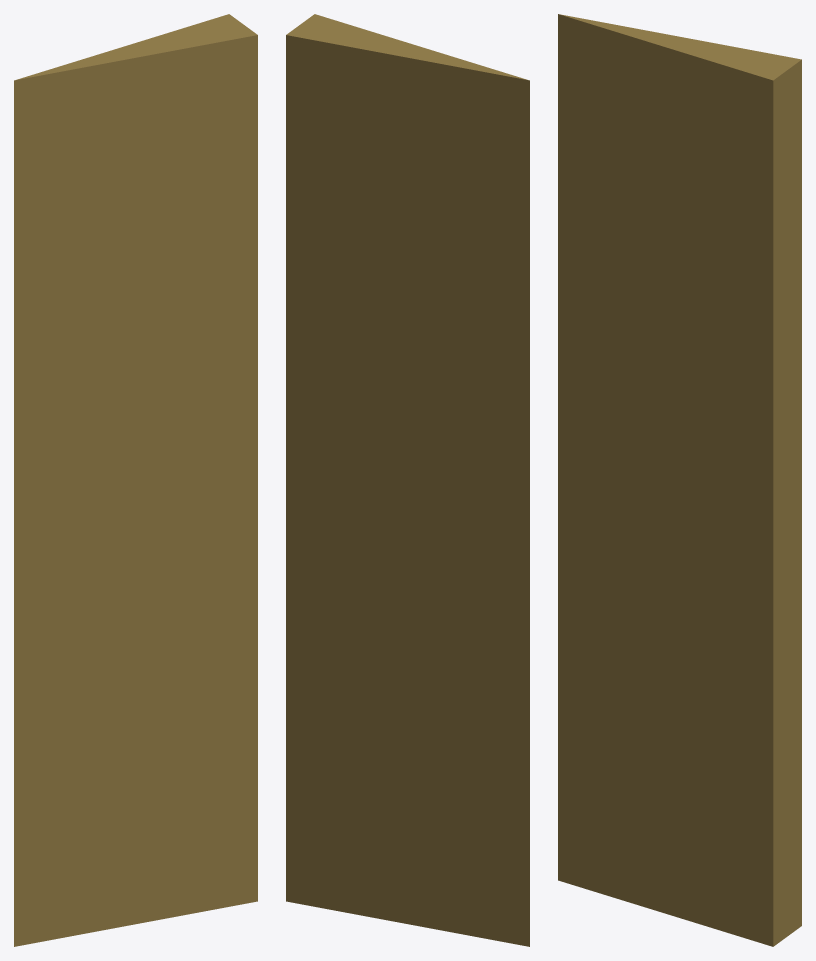
File: cratepart.fbx
3 renders of one model, left to right at view 1: azimuth 30°, elevation 25°; view 2: azimuth 150°, elevation 25°; view 3: azimuth 330°, elevation 25°, orthographic.
Visible parts, largest first — view 1: pCube4; view 2: pCube4; view 3: pCube4.
Boxes of the visible parts, x1,y1,x2,y2 form: pCube4: (14,14,257,946); pCube4: (286,14,529,946); pCube4: (558,14,801,946).
Size of the model in its own units: 0.1891 by 0.6821 by 0.041.
